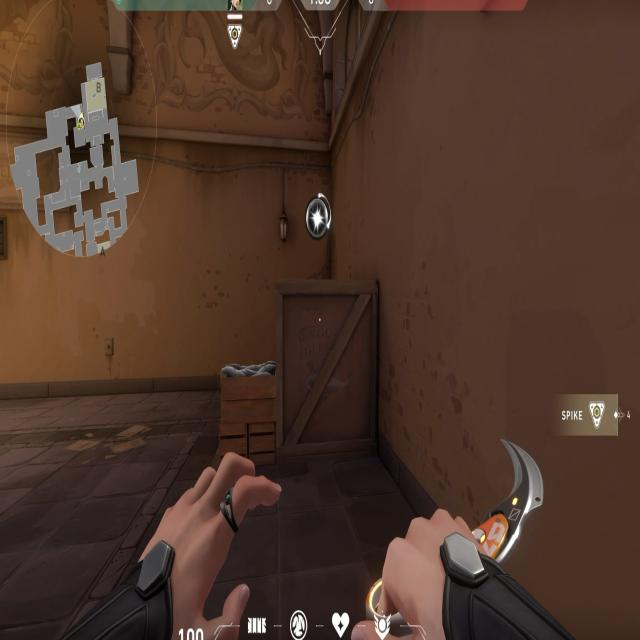B_Main_Wallbang: (200, 177, 401, 481)
